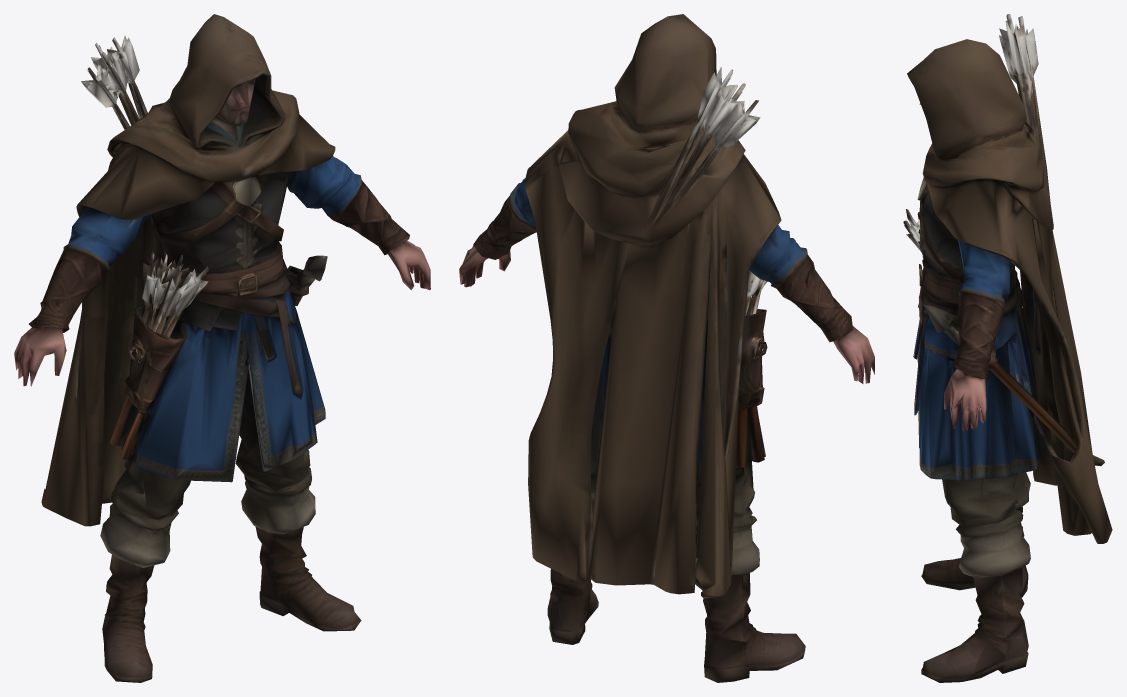
File: hum_arch.glb
The picture shows the model from 3 angles, left to right: view 1: azimuth 30°, elevation 25°; view 2: azimuth 150°, elevation 25°; view 3: azimuth 270°, elevation 25°; orthographic projection. The views are drawn at different scales.
Parts seen in each view (by area): view 1: node_0; view 2: node_0; view 3: node_0.
Part boxes in pixels (bbox=[...]): node_0: bbox=[14, 14, 430, 682]; node_0: bbox=[459, 14, 874, 682]; node_0: bbox=[903, 14, 1112, 682].
Size of the model in its own units: 0.7398 by 1.09 by 0.3515.
1 material, 1 textured.
